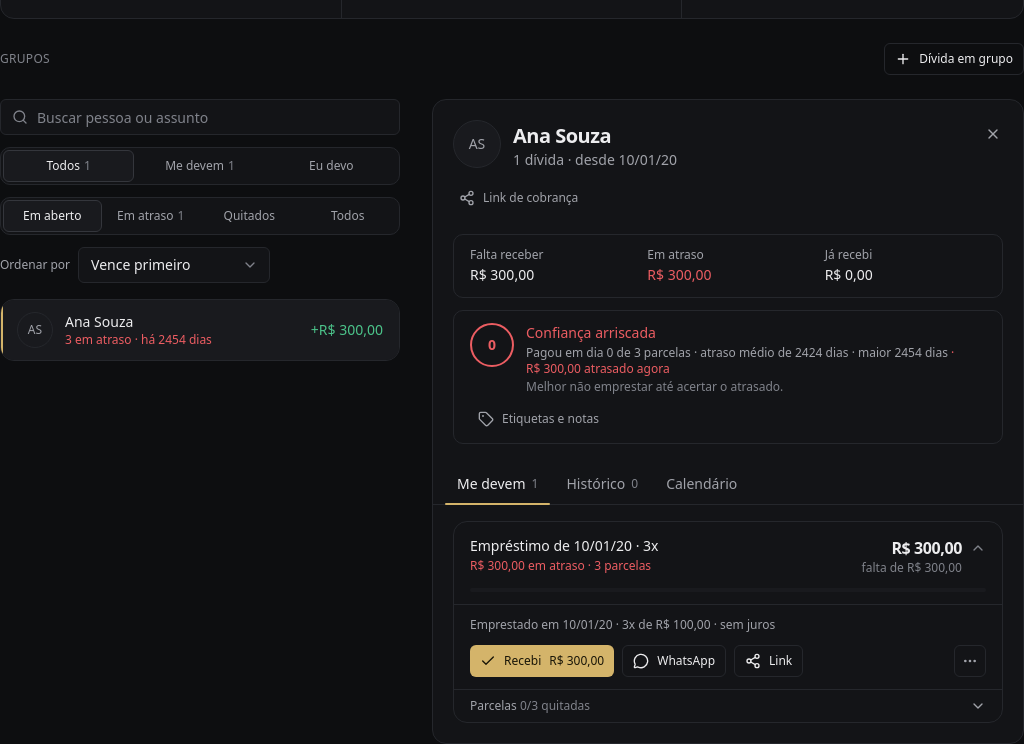
Scenario: Pessoas: renegociar e mais prazo › valor inválido mostra o erro e não grava
This screenshot has width=1024, height=744.
(page scrolled)
Click the button named "Mais ações".
click(970, 661)  # box [954, 645, 986, 677]
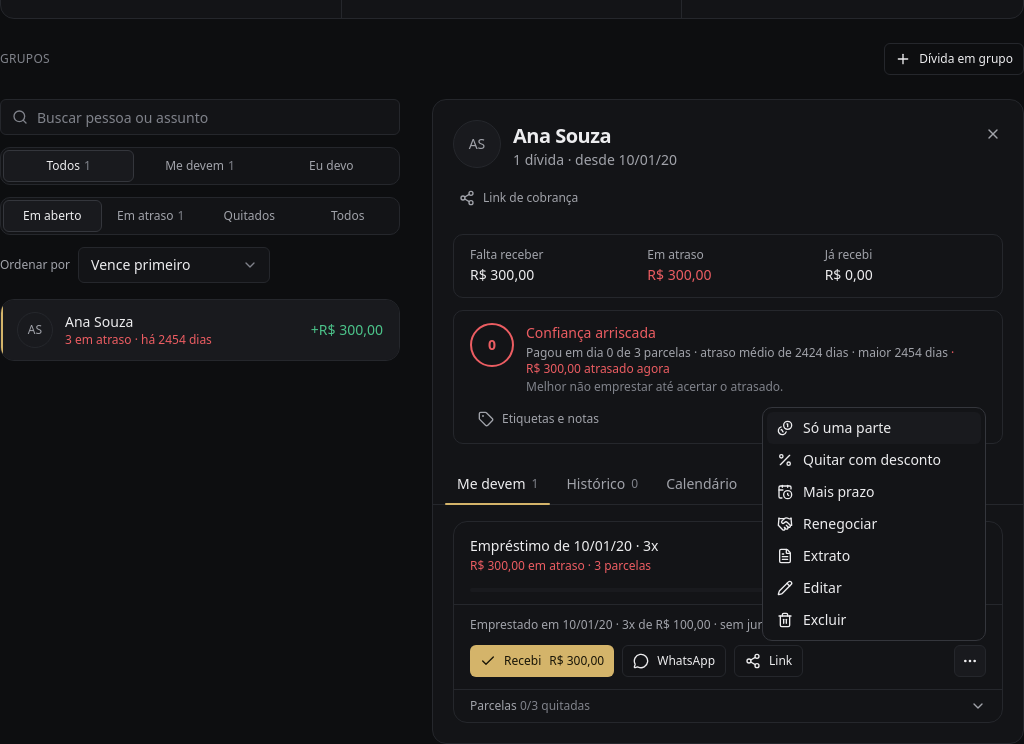
Click the menu item "Renegociar".
click(874, 524)  # box [767, 508, 981, 540]
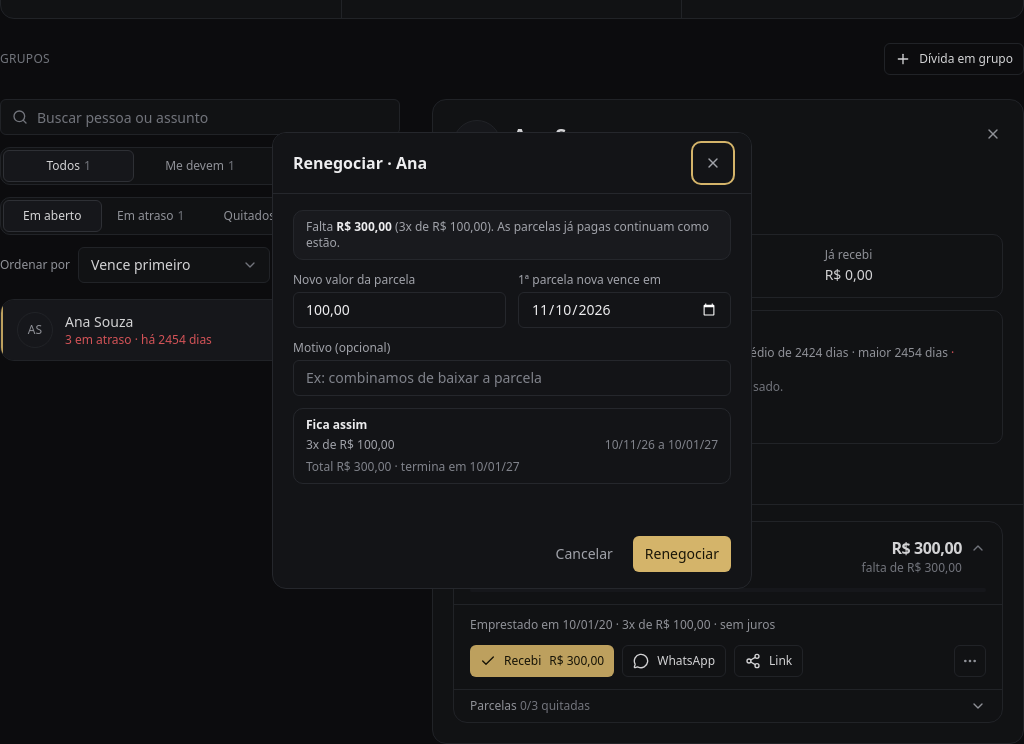
Replace the text in the field labelled "Novo valor da parcela" with "0" at (400, 310), box [293, 292, 506, 328]
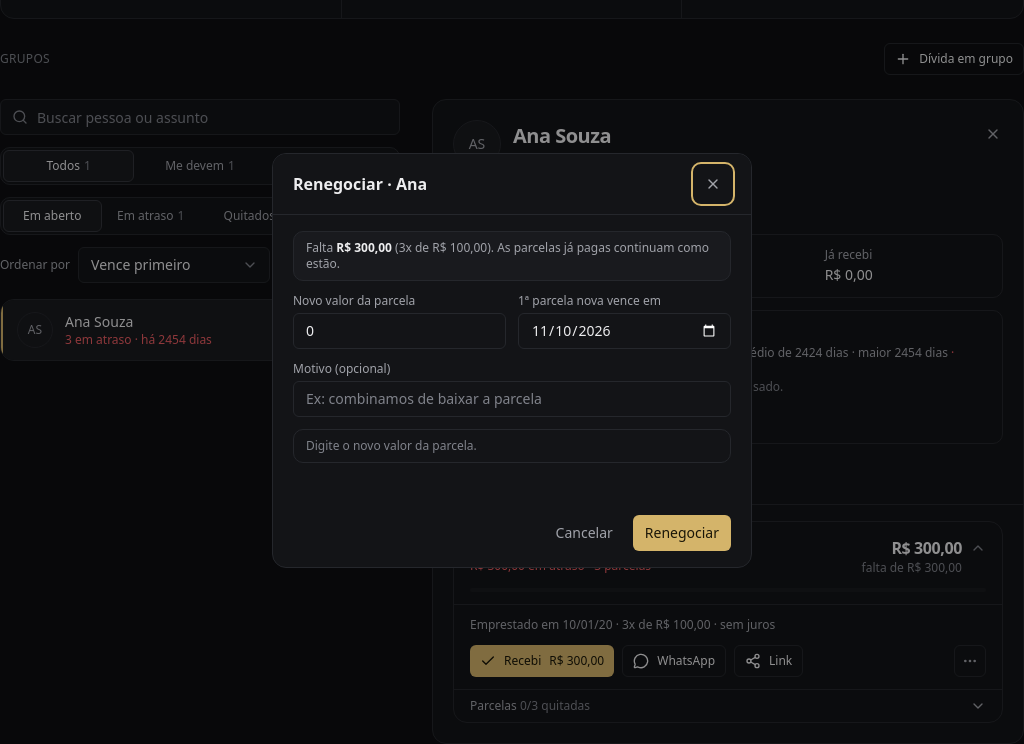
Click the button "Renegociar".
click(682, 532)  # box [633, 514, 731, 550]
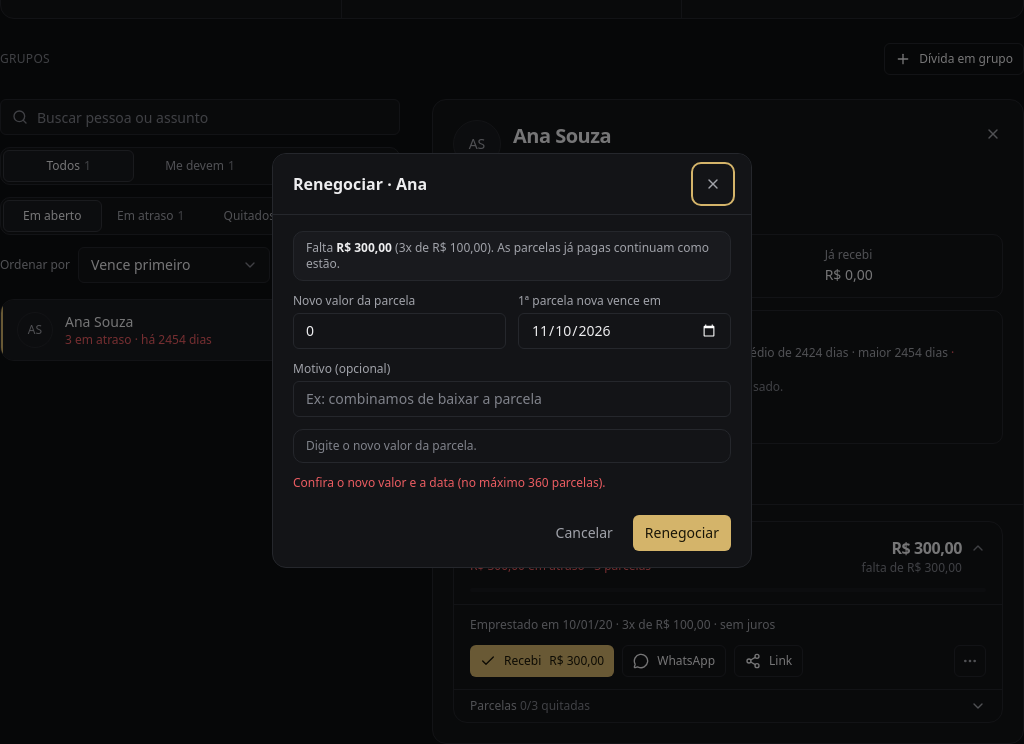
Now the message shows "Confira o novo valor", box [293, 474, 606, 490]
